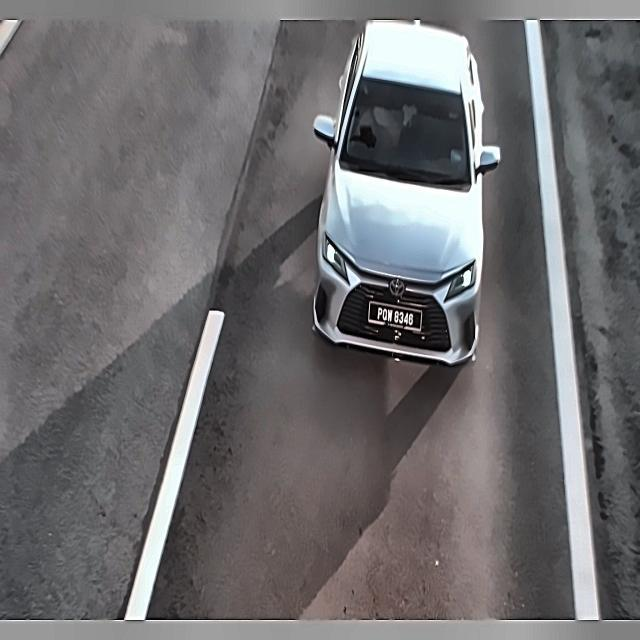car: (364, 295, 425, 341)
